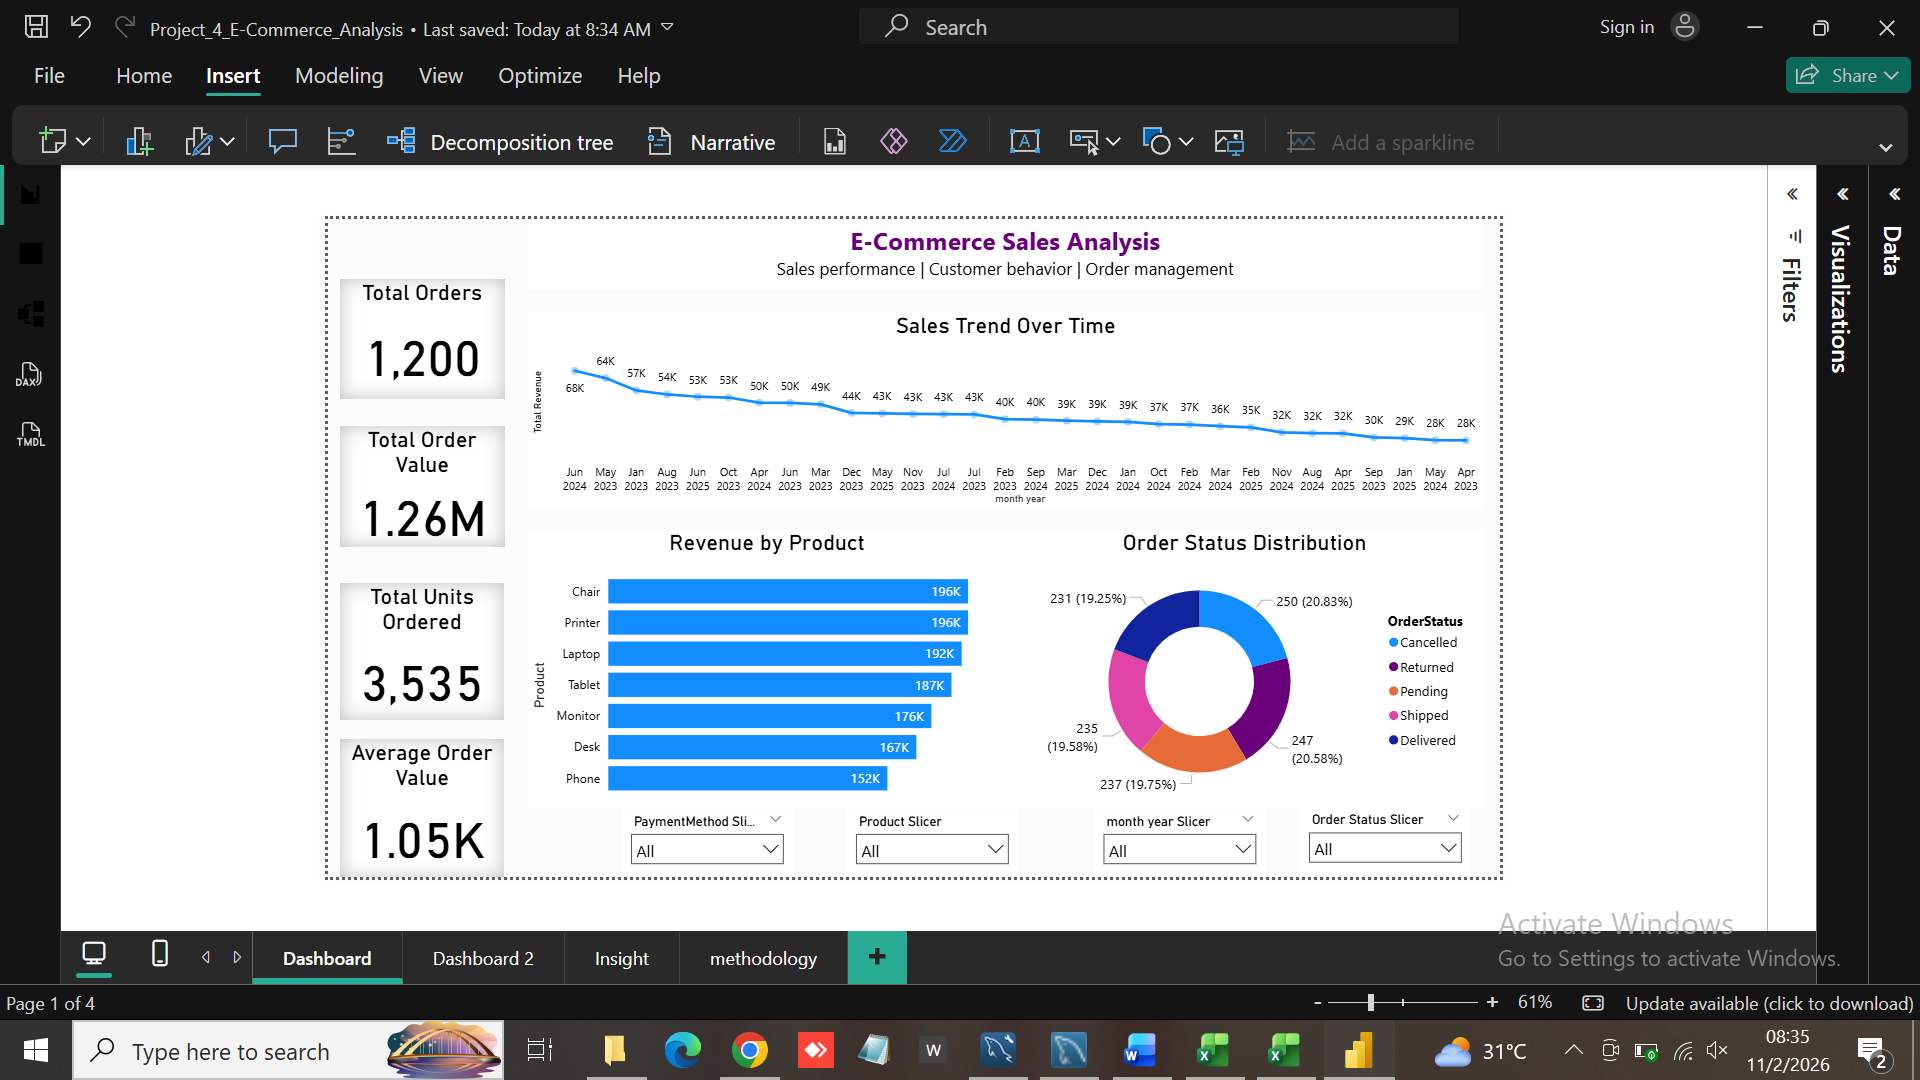

The dashboard page shown, as its layout file describes it:
{"tool":"powerbi","page":{"name":"Dashboard","canvas":[1280,720],"ordinal":0},"visuals":[{"type":"card","title":"Total Orders","fields":{"Values":["FactOrders.Total Orders"]},"box":[12.5,65.7,179.9,131.4],"z":0},{"type":"card","title":"Total Order Value","fields":{"Values":["FactOrders.Total Revenue"]},"box":[12.5,226.8,179.9,133],"z":1000},{"type":"card","title":"Total Units Ordered","fields":{"Values":["FactOrders.Total Quantity Sold"]},"box":[13.2,398.7,179.5,149.3],"z":2000},{"type":"card","title":"Average Order Value","fields":{"Values":["FactOrders.Average Order Value"]},"box":[13.2,568.8,179.5,151.2],"z":3000},{"type":"lineChart","title":"Sales Trend Over Time","fields":{"Y":["FactOrders.Total Revenue"],"Category":["FactOrders.month year"]},"box":[218,101.6,1045.9,214.8],"z":4000},{"type":"clusteredBarChart","title":"Revenue by Product","fields":{"Category":["FactOrders.Product"],"Y":["FactOrders.Total Revenue"]},"box":[218,339.9,523.7,304.2],"z":5000},{"type":"donutChart","title":"Order Status Distribution","fields":{"Category":["FactOrders.OrderStatus"],"Y":["CountNonNull(FactOrders.OrderID)"]},"box":[741.7,339.9,522.1,304.2],"z":6000},{"type":"slicer","fields":{"Values":["FactOrders.Product"]},"box":[567.2,644.3,186.9,75.4],"z":7000},{"type":"slicer","fields":{"Values":["FactOrders.month year"]},"box":[837.7,644.3,186.9,75.4],"z":8000},{"type":"slicer","fields":{"Values":["FactOrders.OrderStatus"]},"box":[1062.3,642.6,186.9,73.8],"z":9000},{"type":"slicer","fields":{"Values":["FactOrders.PaymentMethod"]},"box":[321.3,644.3,186.9,75.4],"z":10000},{"type":"textbox","box":[218,0,1044.3,77],"z":10001}]}

Visuals, with their boxes on the page's 1280x720 design canvas (x1, y1, x2, y2). These are canvas units, not pixel positions in the 1920x1080 screenshot, which may show the page scaled, cropped or inside an application window:
"Total Orders" card: <region>12, 66, 192, 197</region>
"Total Order Value" card: <region>12, 227, 192, 360</region>
"Total Units Ordered" card: <region>13, 399, 193, 548</region>
"Average Order Value" card: <region>13, 569, 193, 720</region>
"Sales Trend Over Time" lineChart: <region>218, 102, 1264, 316</region>
"Revenue by Product" clusteredBarChart: <region>218, 340, 742, 644</region>
"Order Status Distribution" donutChart: <region>742, 340, 1264, 644</region>
slicer - FactOrders.Product: <region>567, 644, 754, 720</region>
slicer - FactOrders.month year: <region>838, 644, 1025, 720</region>
slicer - FactOrders.OrderStatus: <region>1062, 643, 1249, 716</region>
slicer - FactOrders.PaymentMethod: <region>321, 644, 508, 720</region>
textbox: <region>218, 0, 1262, 77</region>
